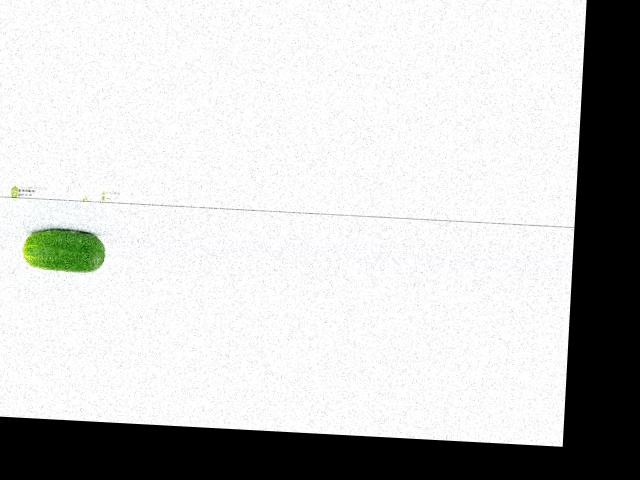cucumber: (22, 227, 106, 272)
